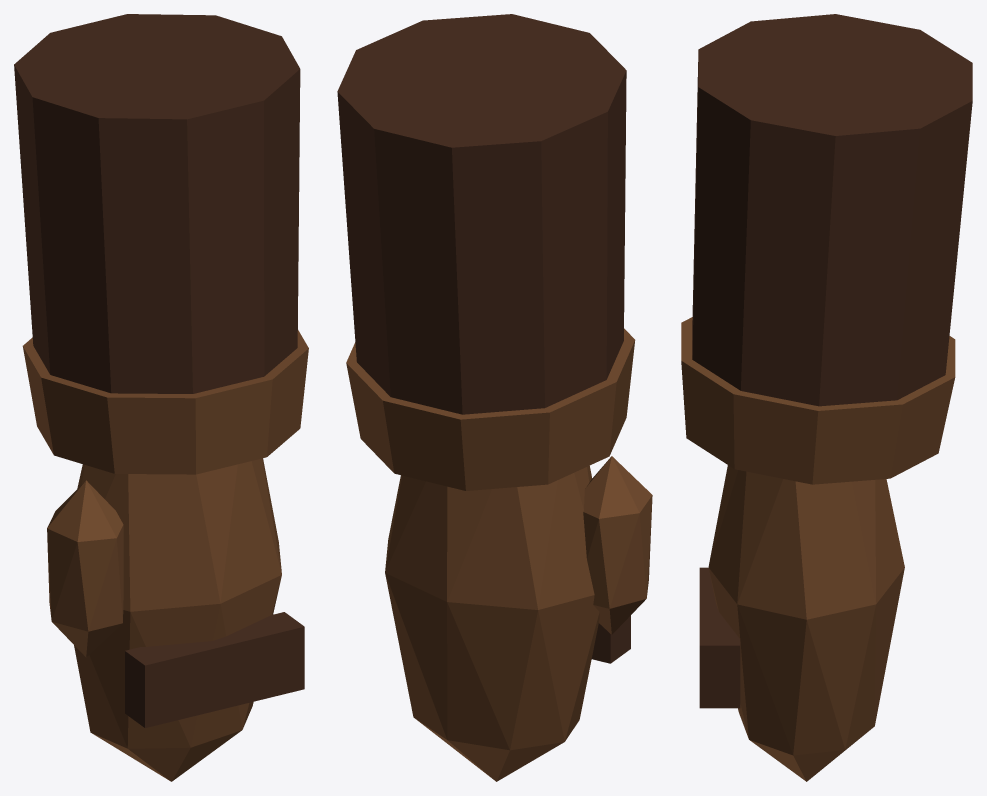
The model's file is gear_gloves_hard_arm_l.glb.
3 renders of one model, left to right at view 1: azimuth 30°, elevation 25°; view 2: azimuth 150°, elevation 25°; view 3: azimuth 270°, elevation 25°, orthographic.
Visible parts, largest first — view 1: gear_gloves_hard_arm_l; view 2: gear_gloves_hard_arm_l; view 3: gear_gloves_hard_arm_l.
Boxes of the visible parts, x1,y1,x2,y2 form: gear_gloves_hard_arm_l: (14,14,308,781); gear_gloves_hard_arm_l: (337,14,652,781); gear_gloves_hard_arm_l: (681,14,972,781).
Size of the model in its own units: 0.1039 by 0.2726 by 0.1009.
